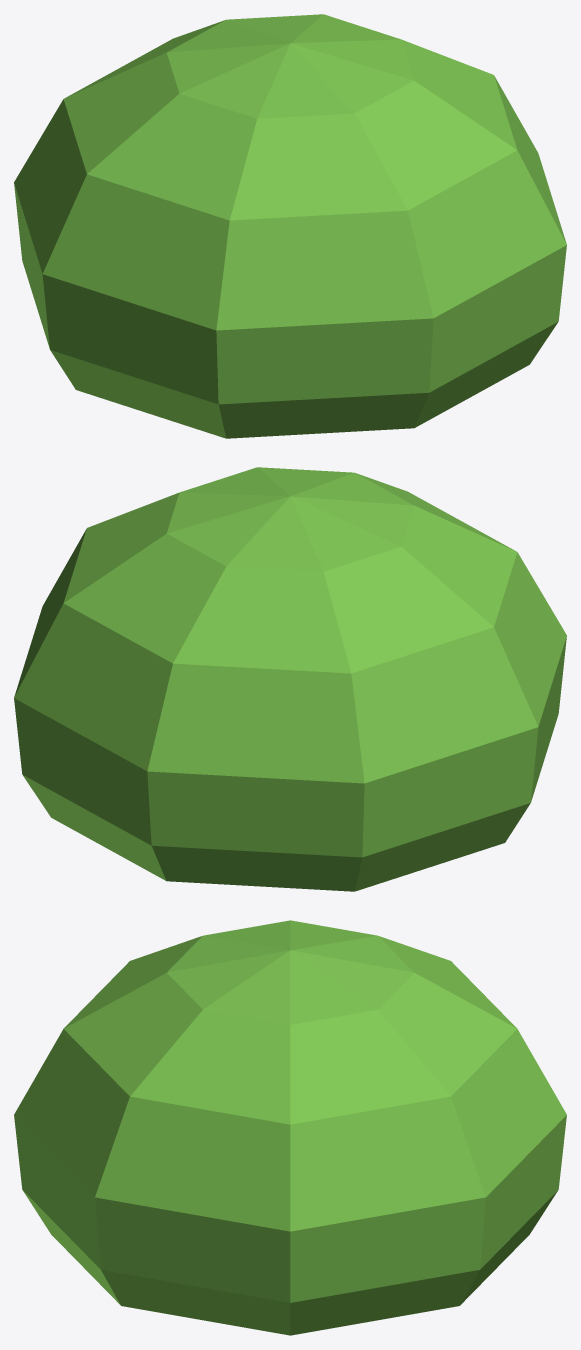
Rendered from Bush.fbx.
3 views of the same model, one above another, from view 1: azimuth 30°, elevation 25°; view 2: azimuth 150°, elevation 25°; view 3: azimuth 270°, elevation 25° (orthographic). The views are drawn at different scales.
Parts seen in each view (by area): view 1: Bush; view 2: Bush; view 3: Bush.
Boxes of the visible parts, <box> form: Bush: <box>14,14,566,438</box>; Bush: <box>14,467,566,891</box>; Bush: <box>14,920,566,1335</box>.
Size of the model in its own units: 134 by 76 by 134.
